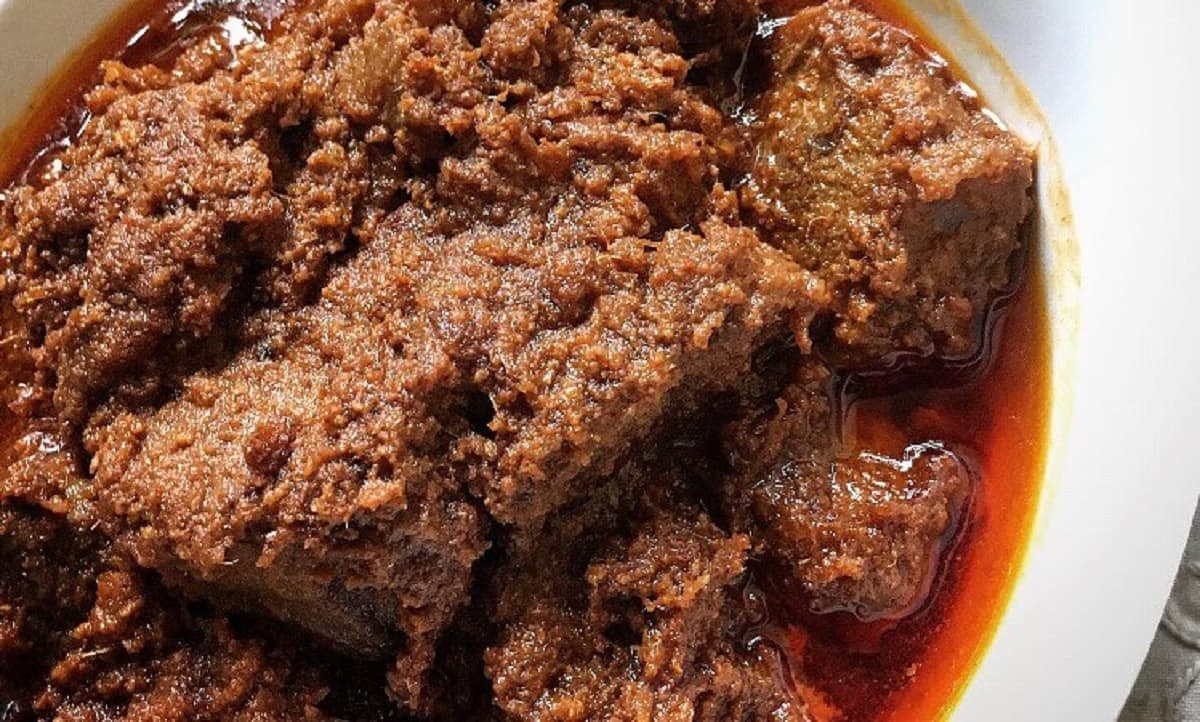rendang: (7, 11, 1022, 709)
